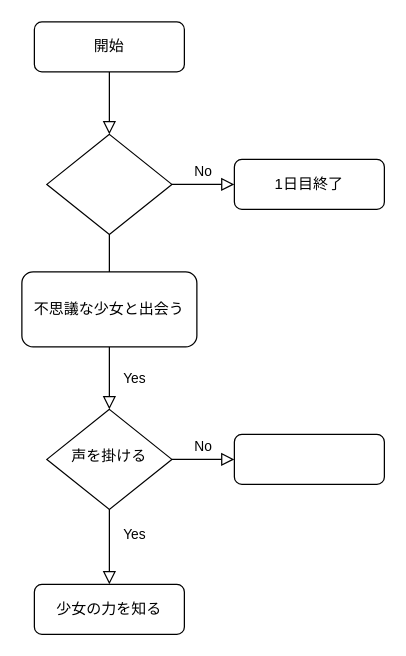
The diagram is 406 pixels wide and 656 high, and some of its shapes have lost their labels. Each missing label, with the centre of its shape:
Replace Bulb: the point at 308,458
出かける: the point at 109,183
